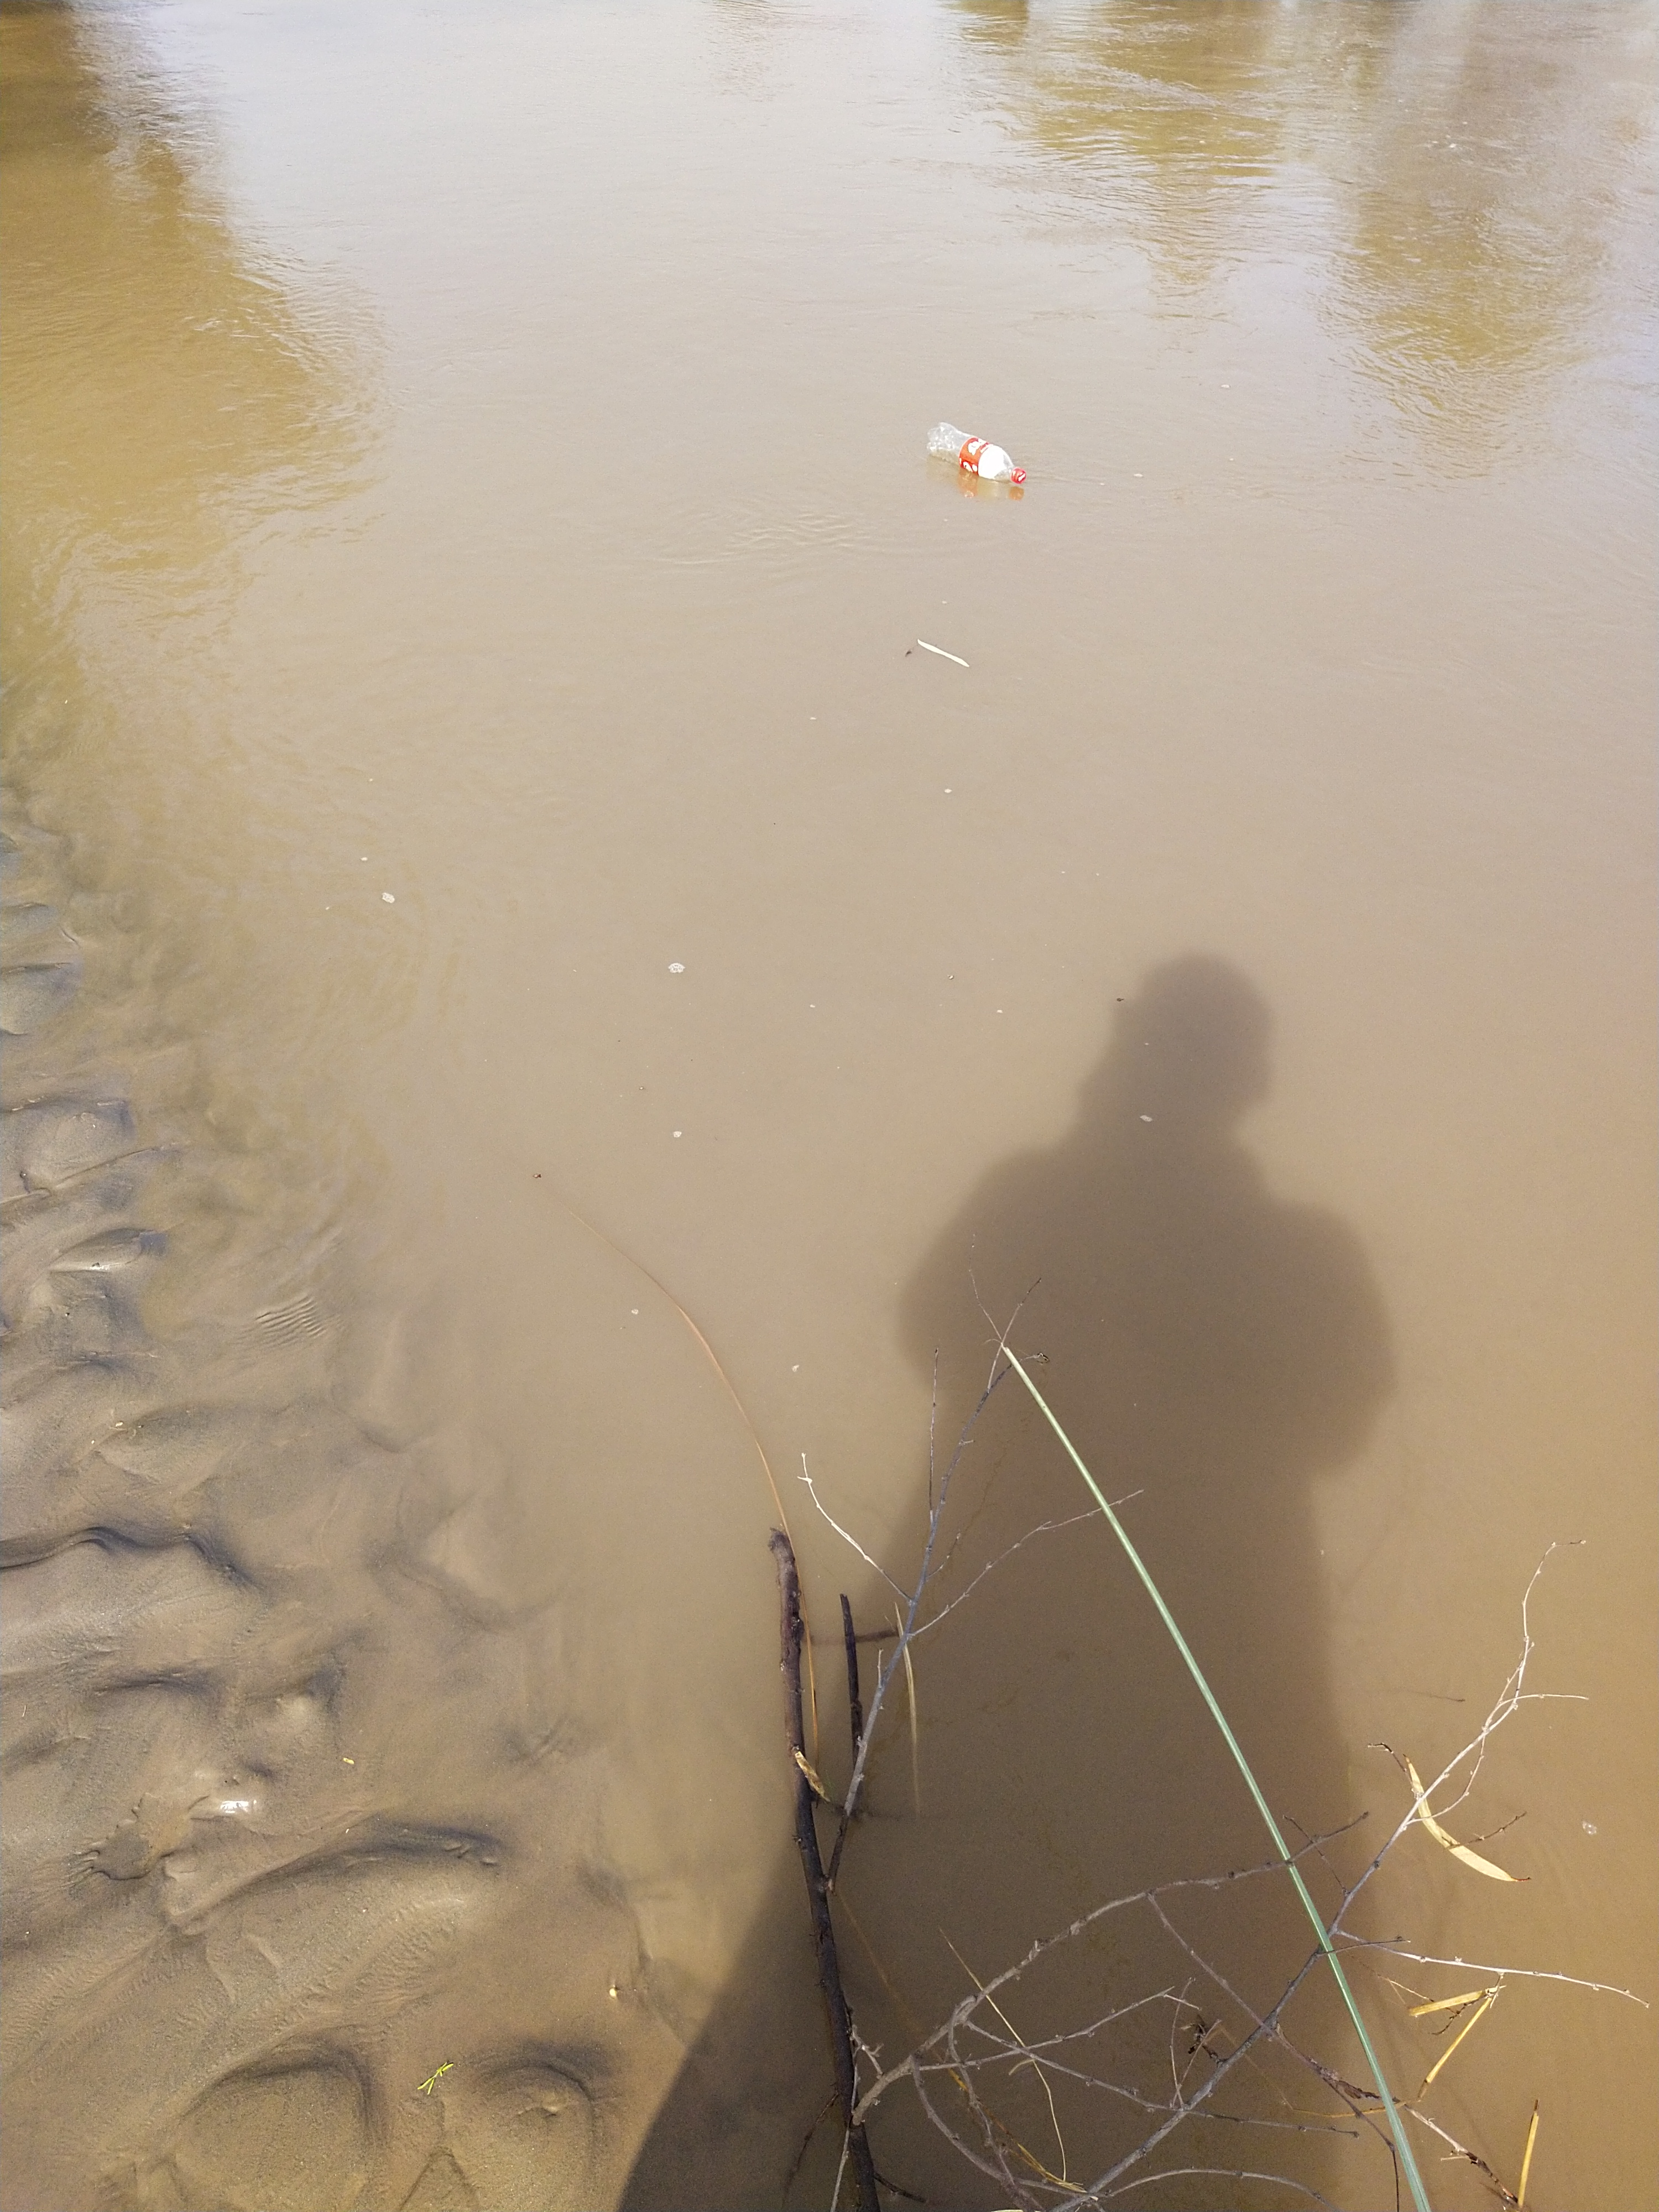Plastic Bottle: (927, 421, 1026, 482)
